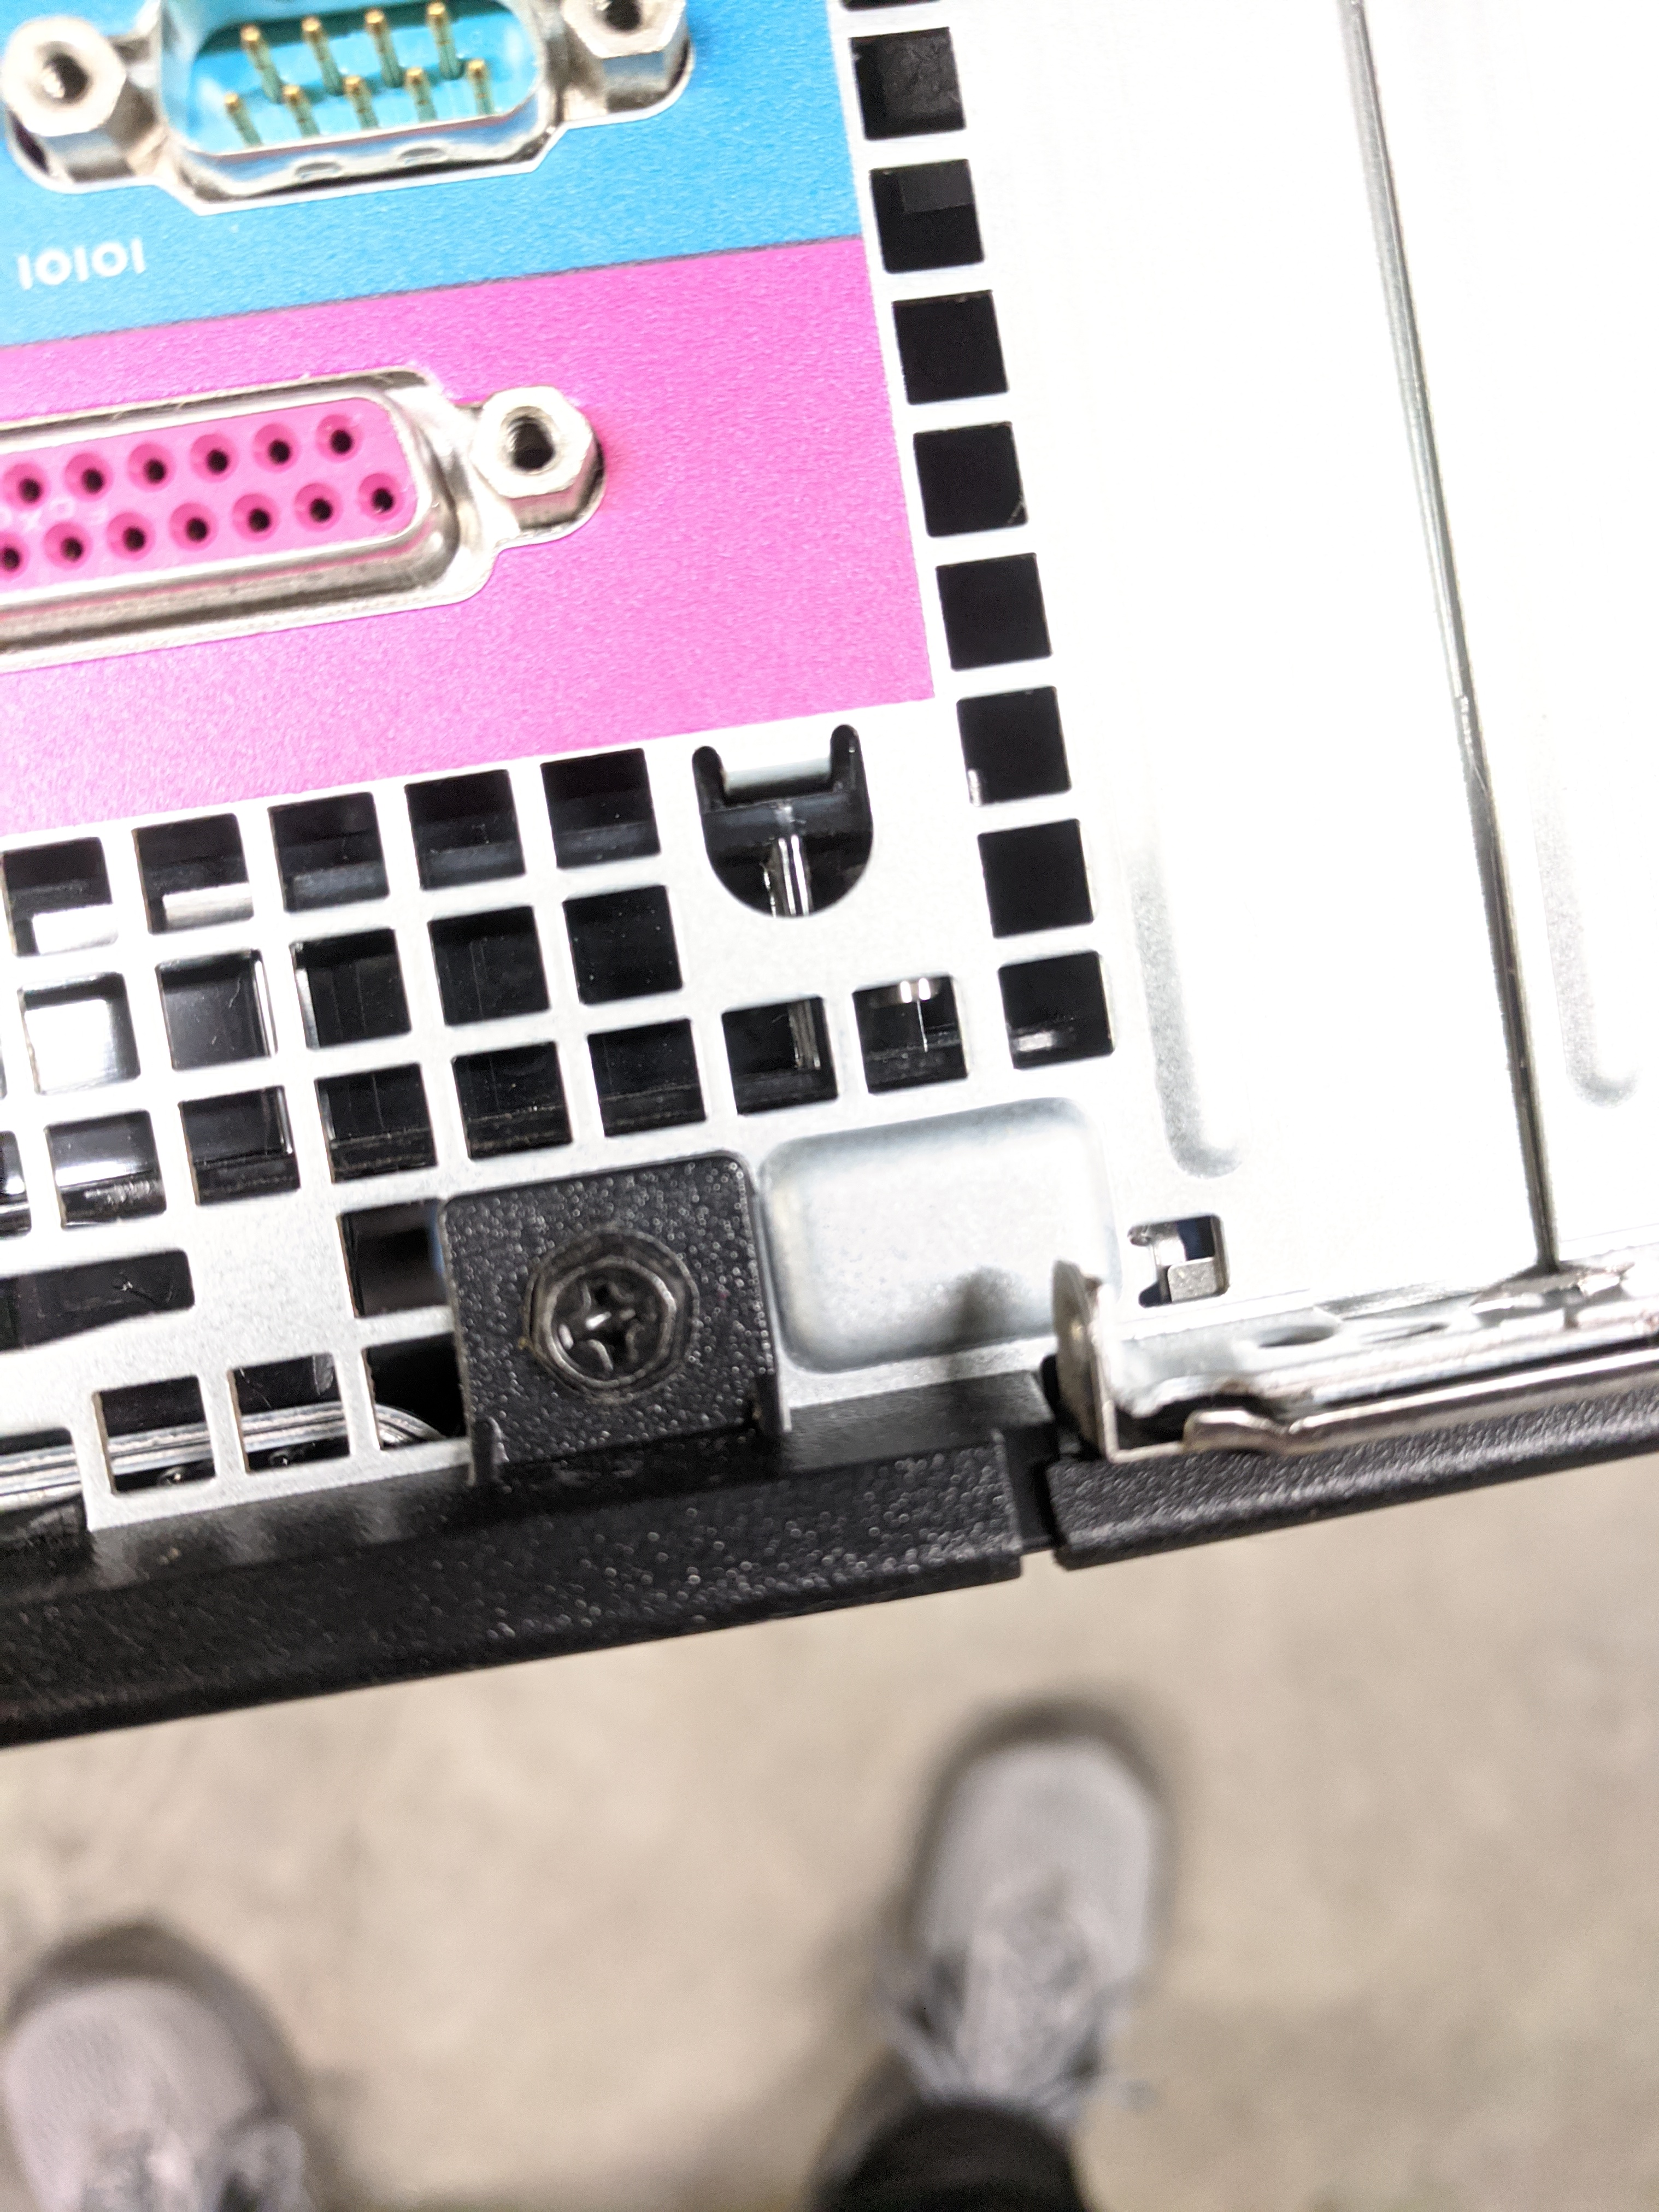cross_recessed_screw: (530, 1240, 681, 1383)
